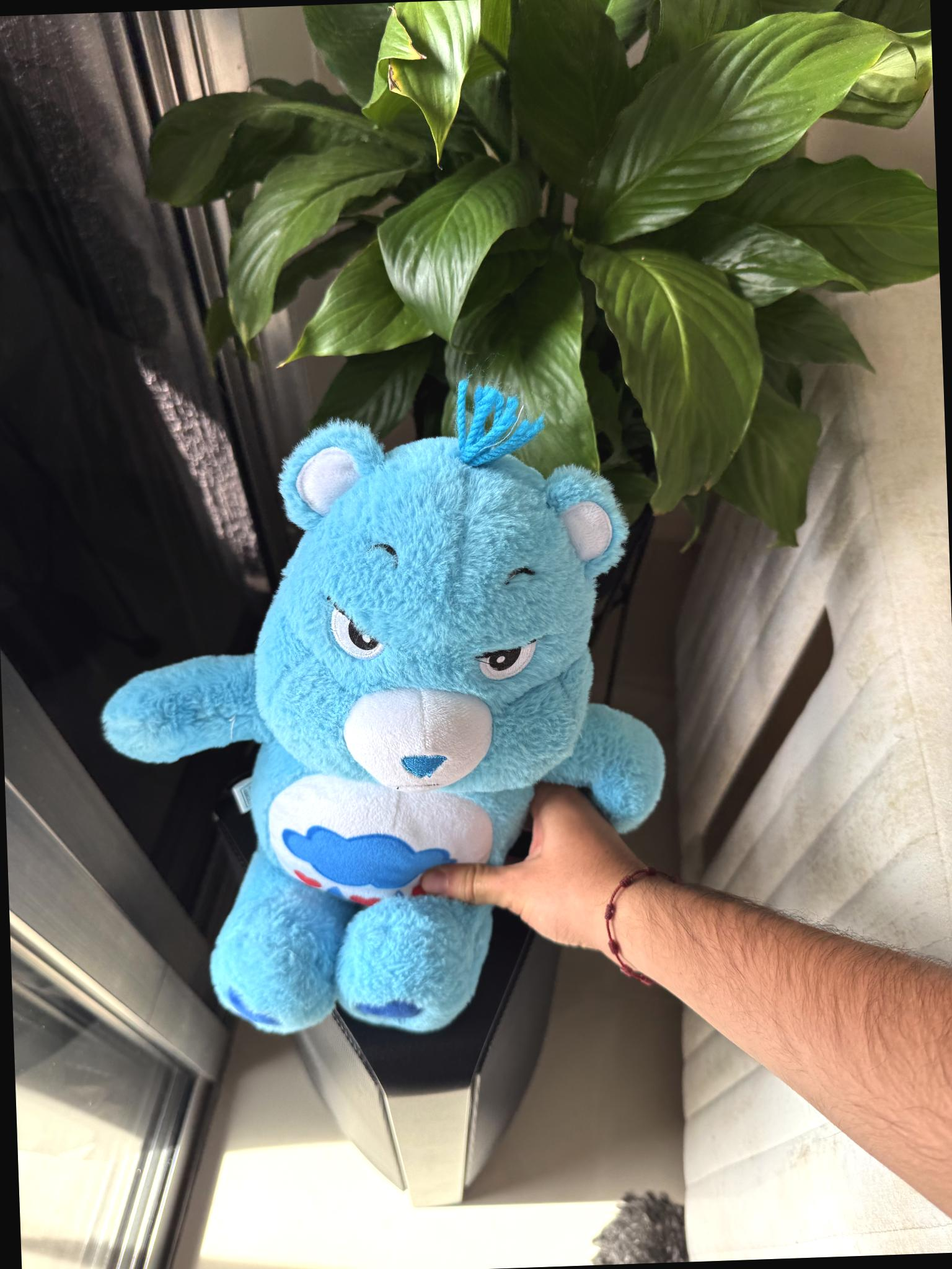peluche_Juan Jose: (89, 415, 631, 1055)
